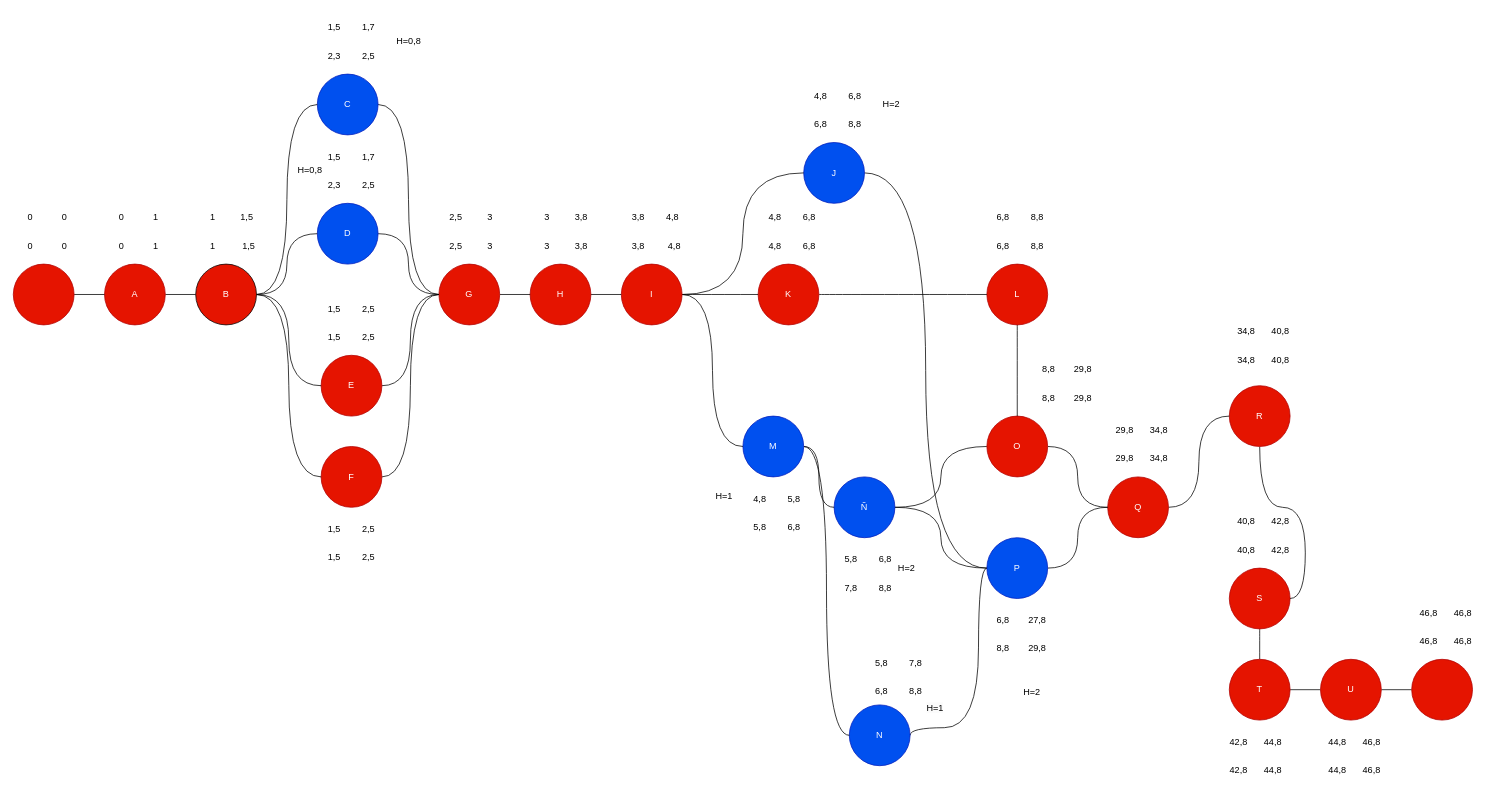
Some shapes in this 1493 by 796 pixel diagram are drawn without their labels. Here are the shapes that lost their labels. From the top down, the box of each, then its label:
(13, 263, 74, 325): INICIO
(1411, 659, 1472, 720): FIN
